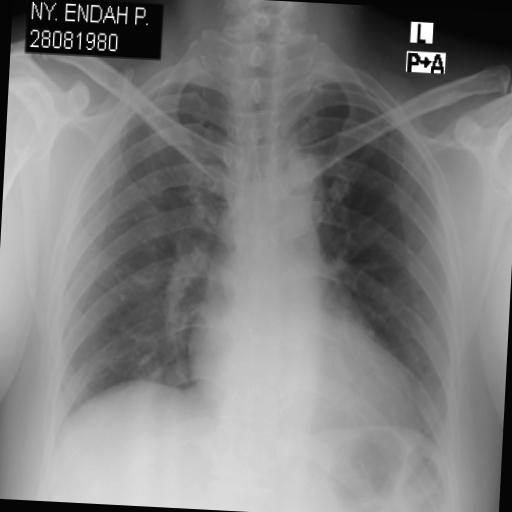kardiomegali: (38, 28, 481, 487)
